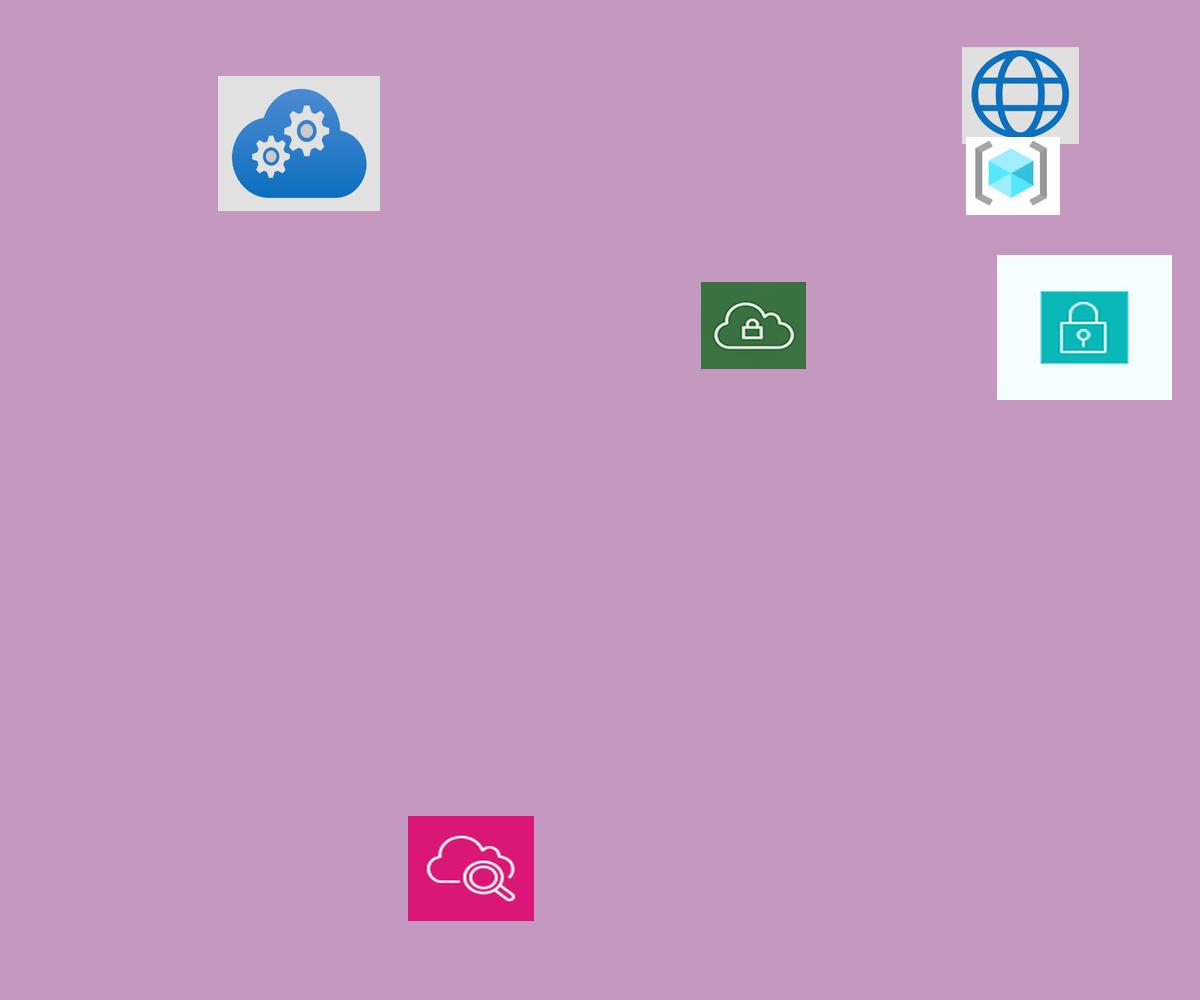AWS-CloudWatch: (408, 816, 534, 921)
AWS-Private-subnet: (997, 255, 1172, 400)
AWS-Private_vpc: (701, 282, 806, 369)
Azure_cloud_services: (218, 76, 380, 211)
Azure_http: (962, 47, 1079, 144)
Azure_resource_group: (966, 137, 1060, 215)
